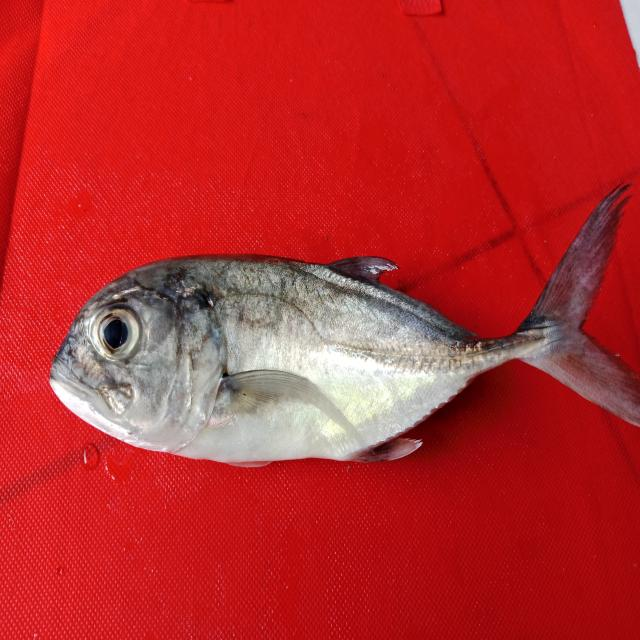ikan: (40, 172, 638, 485)
